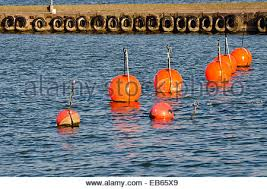buoy: (109, 75, 142, 104), (155, 69, 183, 92), (206, 61, 229, 82), (56, 109, 80, 127), (232, 47, 252, 68), (151, 103, 174, 120), (217, 55, 237, 74)
